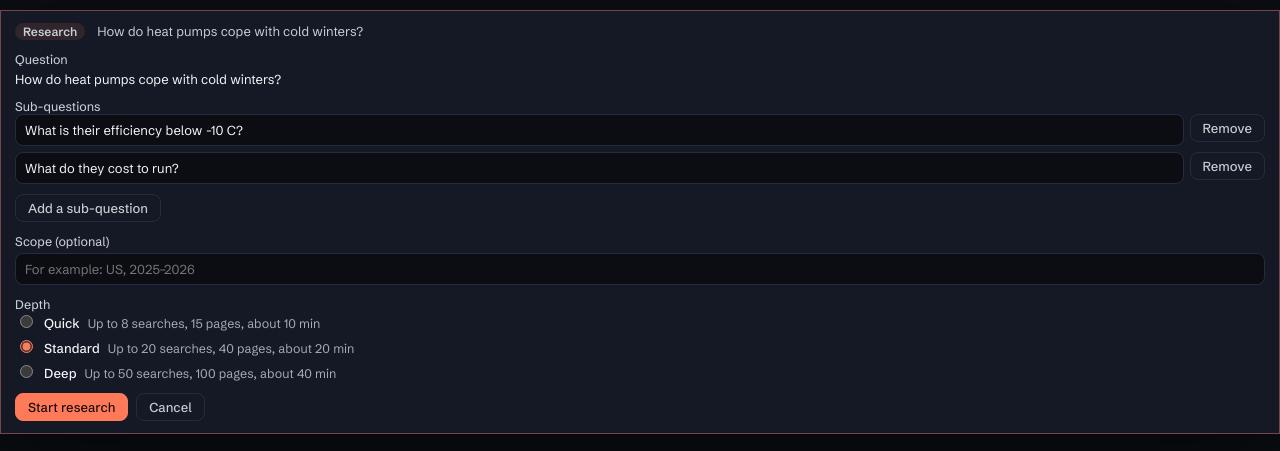
ResearchRunCard › cancels a brief that has not been approved
Click the button "Cancel".
click(170, 407)  # box [136,393,205,421]
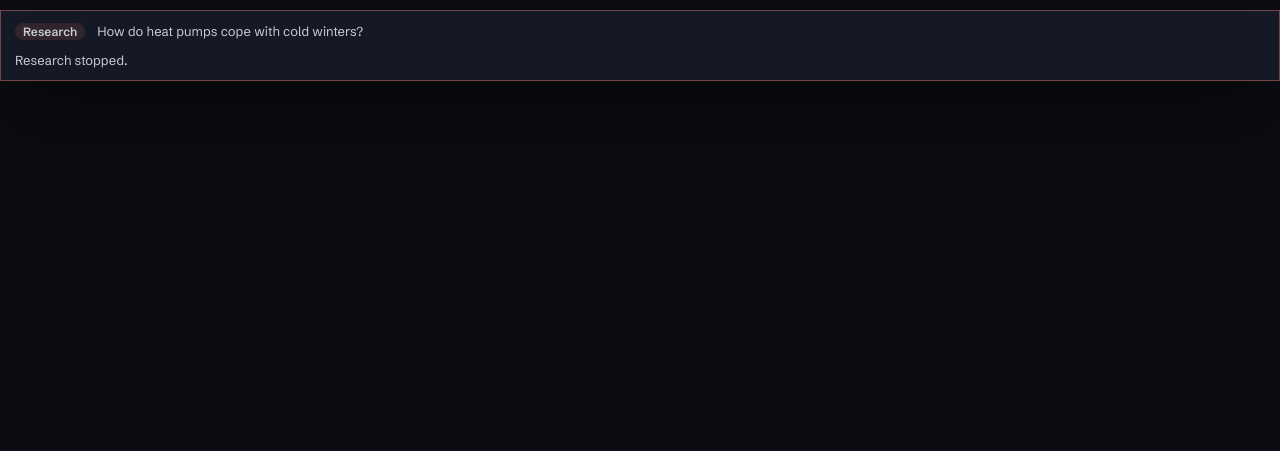
Now the text "Research stopped." is shown, box [15,52,128,68]
